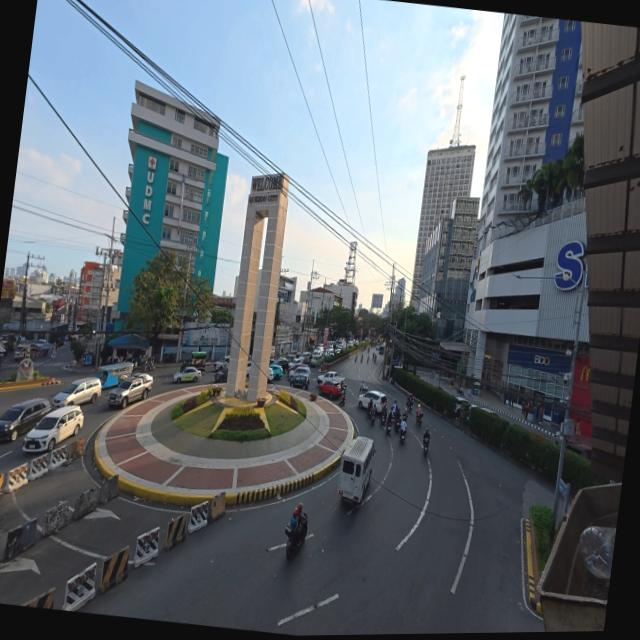car: (316, 371, 348, 401), (356, 386, 388, 413), (169, 363, 201, 386), (288, 364, 314, 390)
